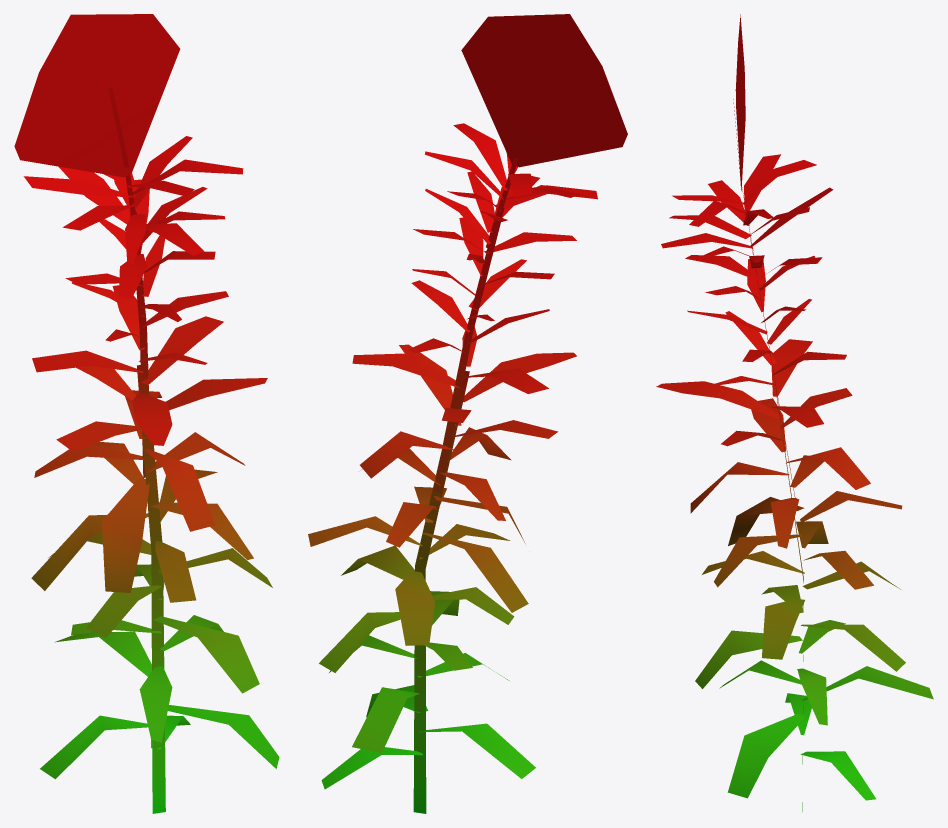
Rendered from Goldenrods_LOD6_Var2.fbx.
The picture shows the model from 3 angles, left to right: view 1: azimuth 30°, elevation 25°; view 2: azimuth 150°, elevation 25°; view 3: azimuth 270°, elevation 25°; orthographic projection. The views are drawn at different scales.
Parts seen in each view (by area): view 1: _xxd8_Var2_LOD6; view 2: _xxd8_Var2_LOD6; view 3: _xxd8_Var2_LOD6.
Part boxes in pixels (box(x1,y1,x2,y2)): _xxd8_Var2_LOD6: box(14, 14, 279, 813); _xxd8_Var2_LOD6: box(308, 14, 627, 813); _xxd8_Var2_LOD6: box(656, 14, 933, 811).
Bounding box in the file's own units: 48.71 × 142 × 48.18.
